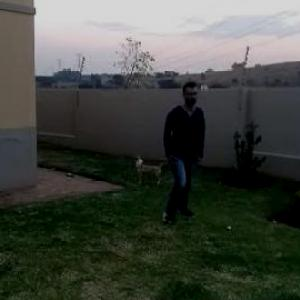follow: (156, 75, 206, 229)
